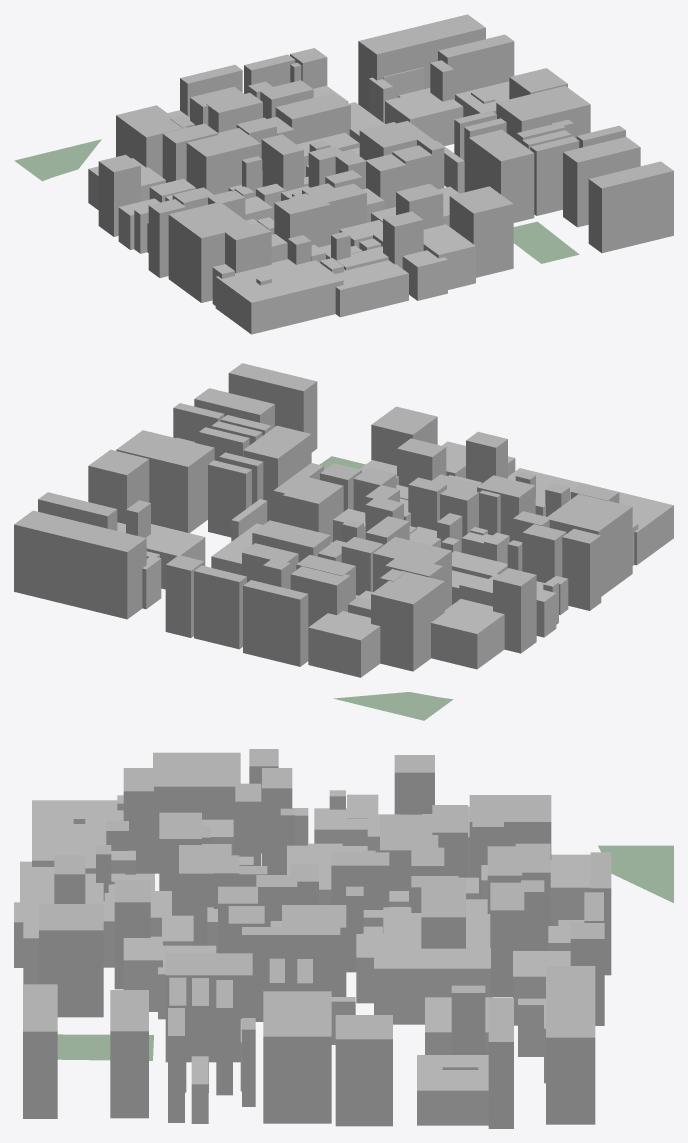
The model's file is 118_101_mid.glb.
3 renders of one model, top to bottom at view 1: azimuth 30°, elevation 25°; view 2: azimuth 150°, elevation 25°; view 3: azimuth 270°, elevation 25°, orthographic. The views are drawn at different scales.
Bounding box in the file's own units: 538 × 77.29 × 515.
